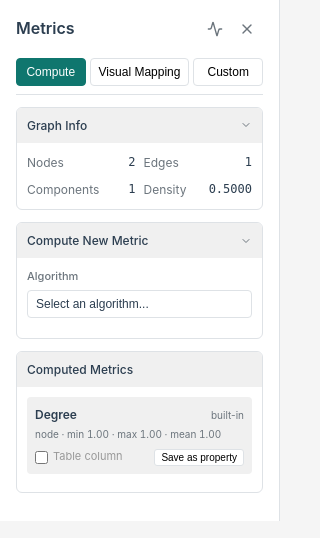
Test case: MetricsPanel — Custom tab › readers see only the note (no list, no New button)
Click the button with test id "metrics-tab-custom": [228, 72] box [193,58,263,86]
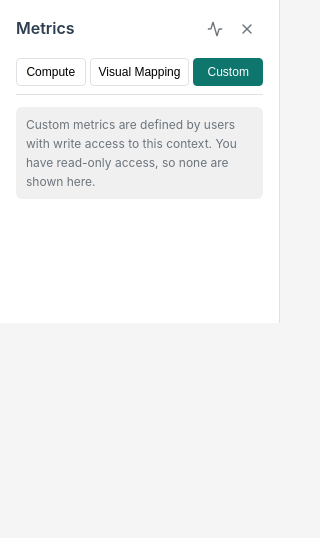
Expected: the text with test id "custom-metrics-readonly" is shown, [16,107,263,199]
